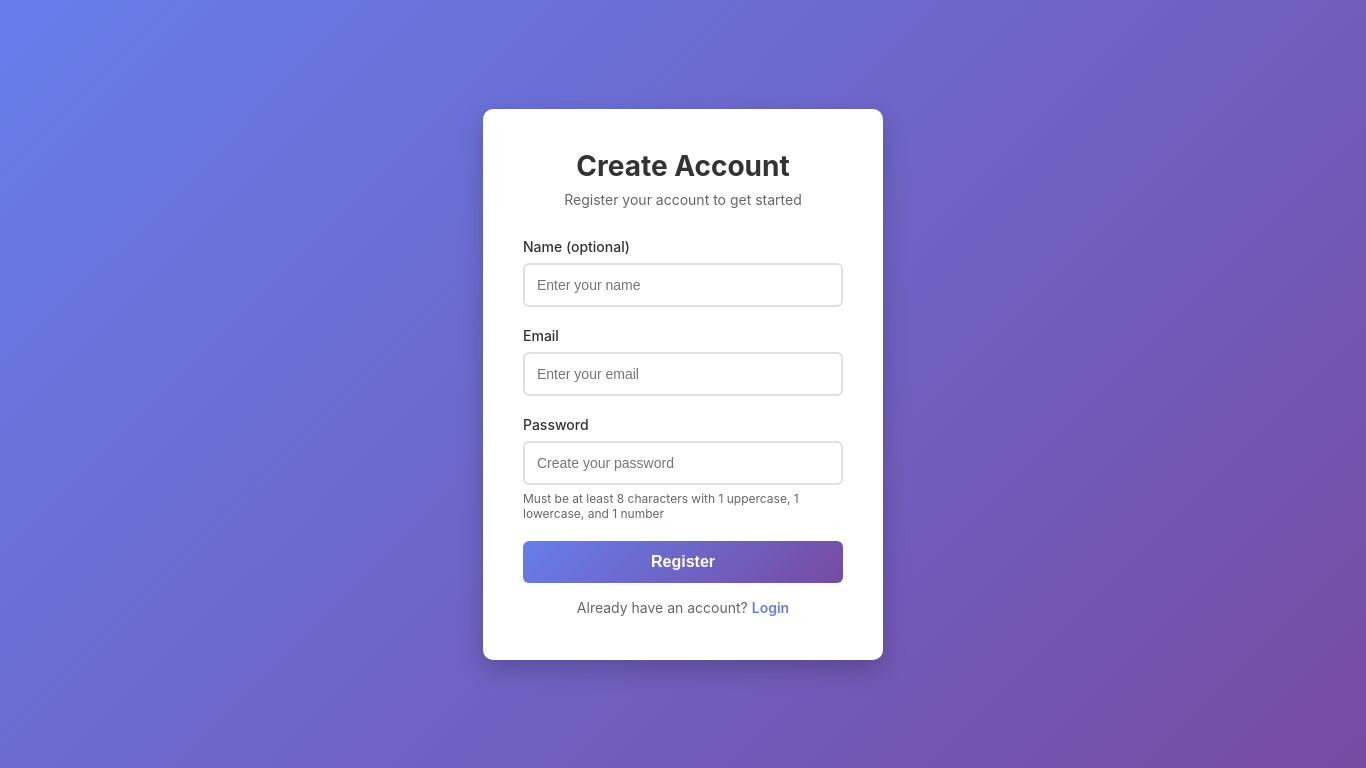
Scenario: Register page › shows API error message on failed registration
The width and height of the screenshot is (1366, 768).
Type "taken@example.com" into the field labelled "Email" at (683, 374), box [523, 352, 843, 396]
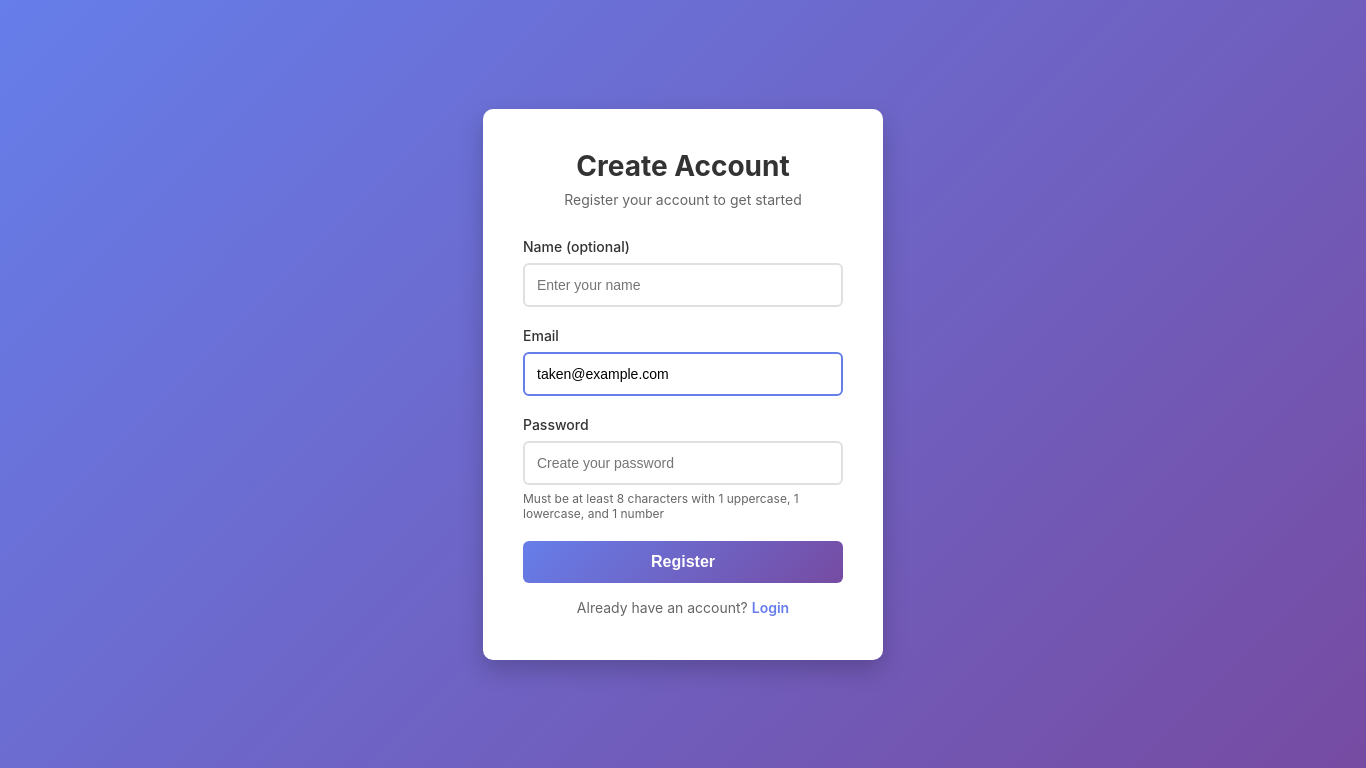
Type "Password1" into the password field labelled "Password" at (683, 462), box [523, 440, 843, 484]
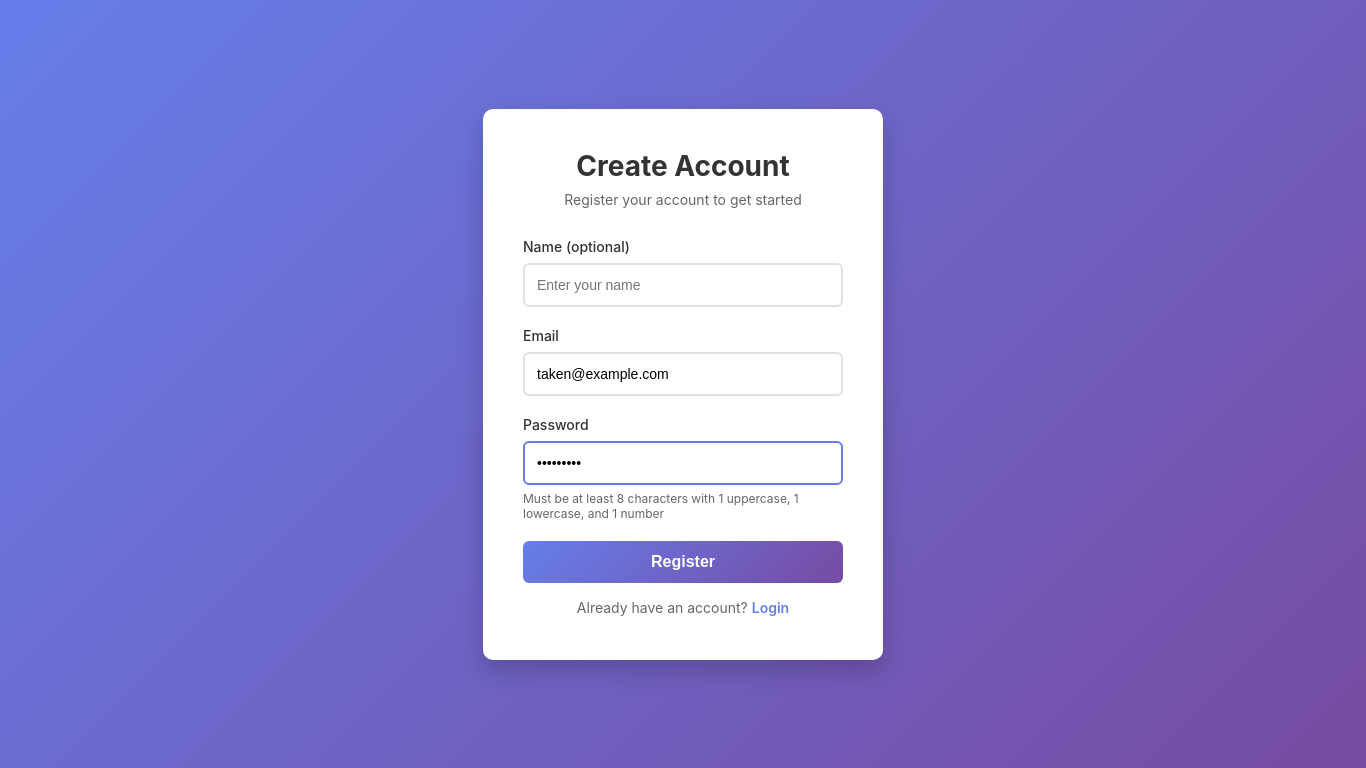
Click the button "Register" at (683, 562), box [523, 540, 843, 582]
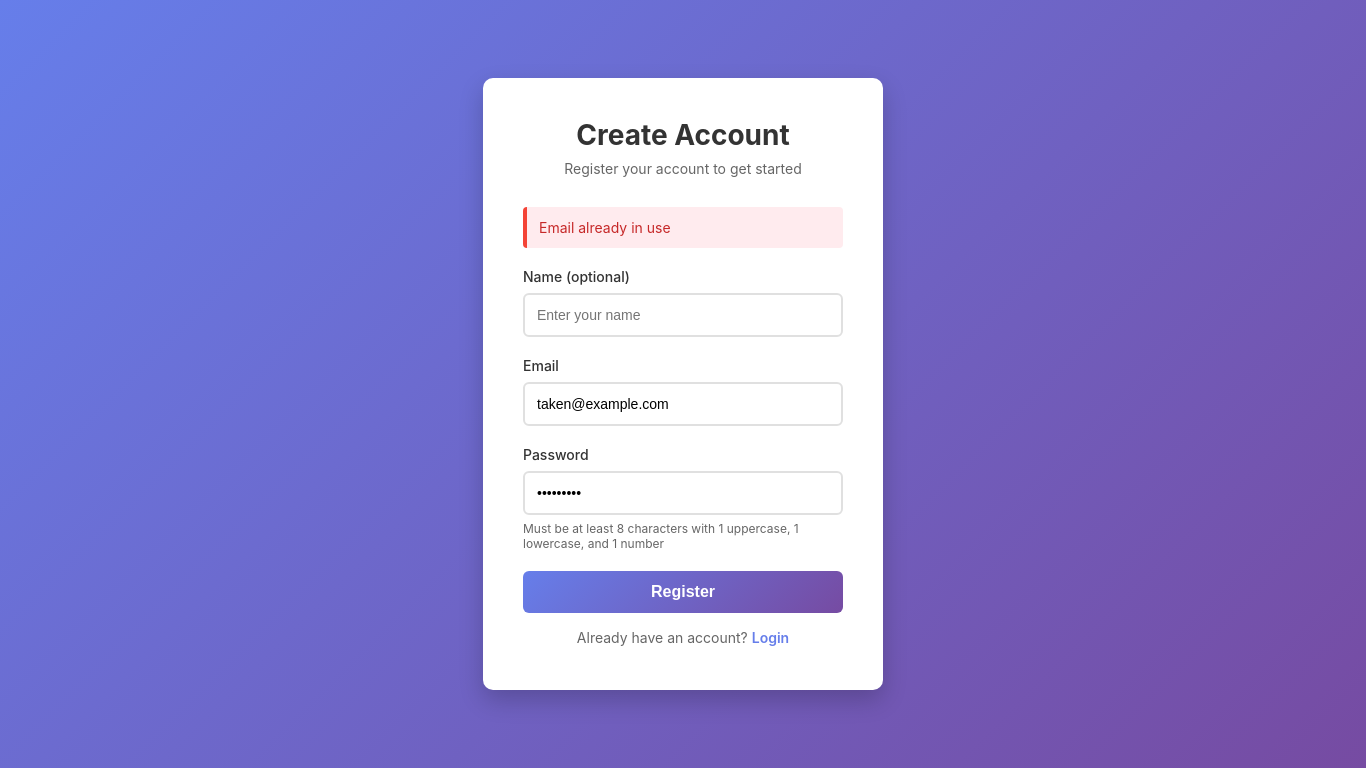
Now the text "Email already in use" is shown, box [523, 207, 843, 248]
